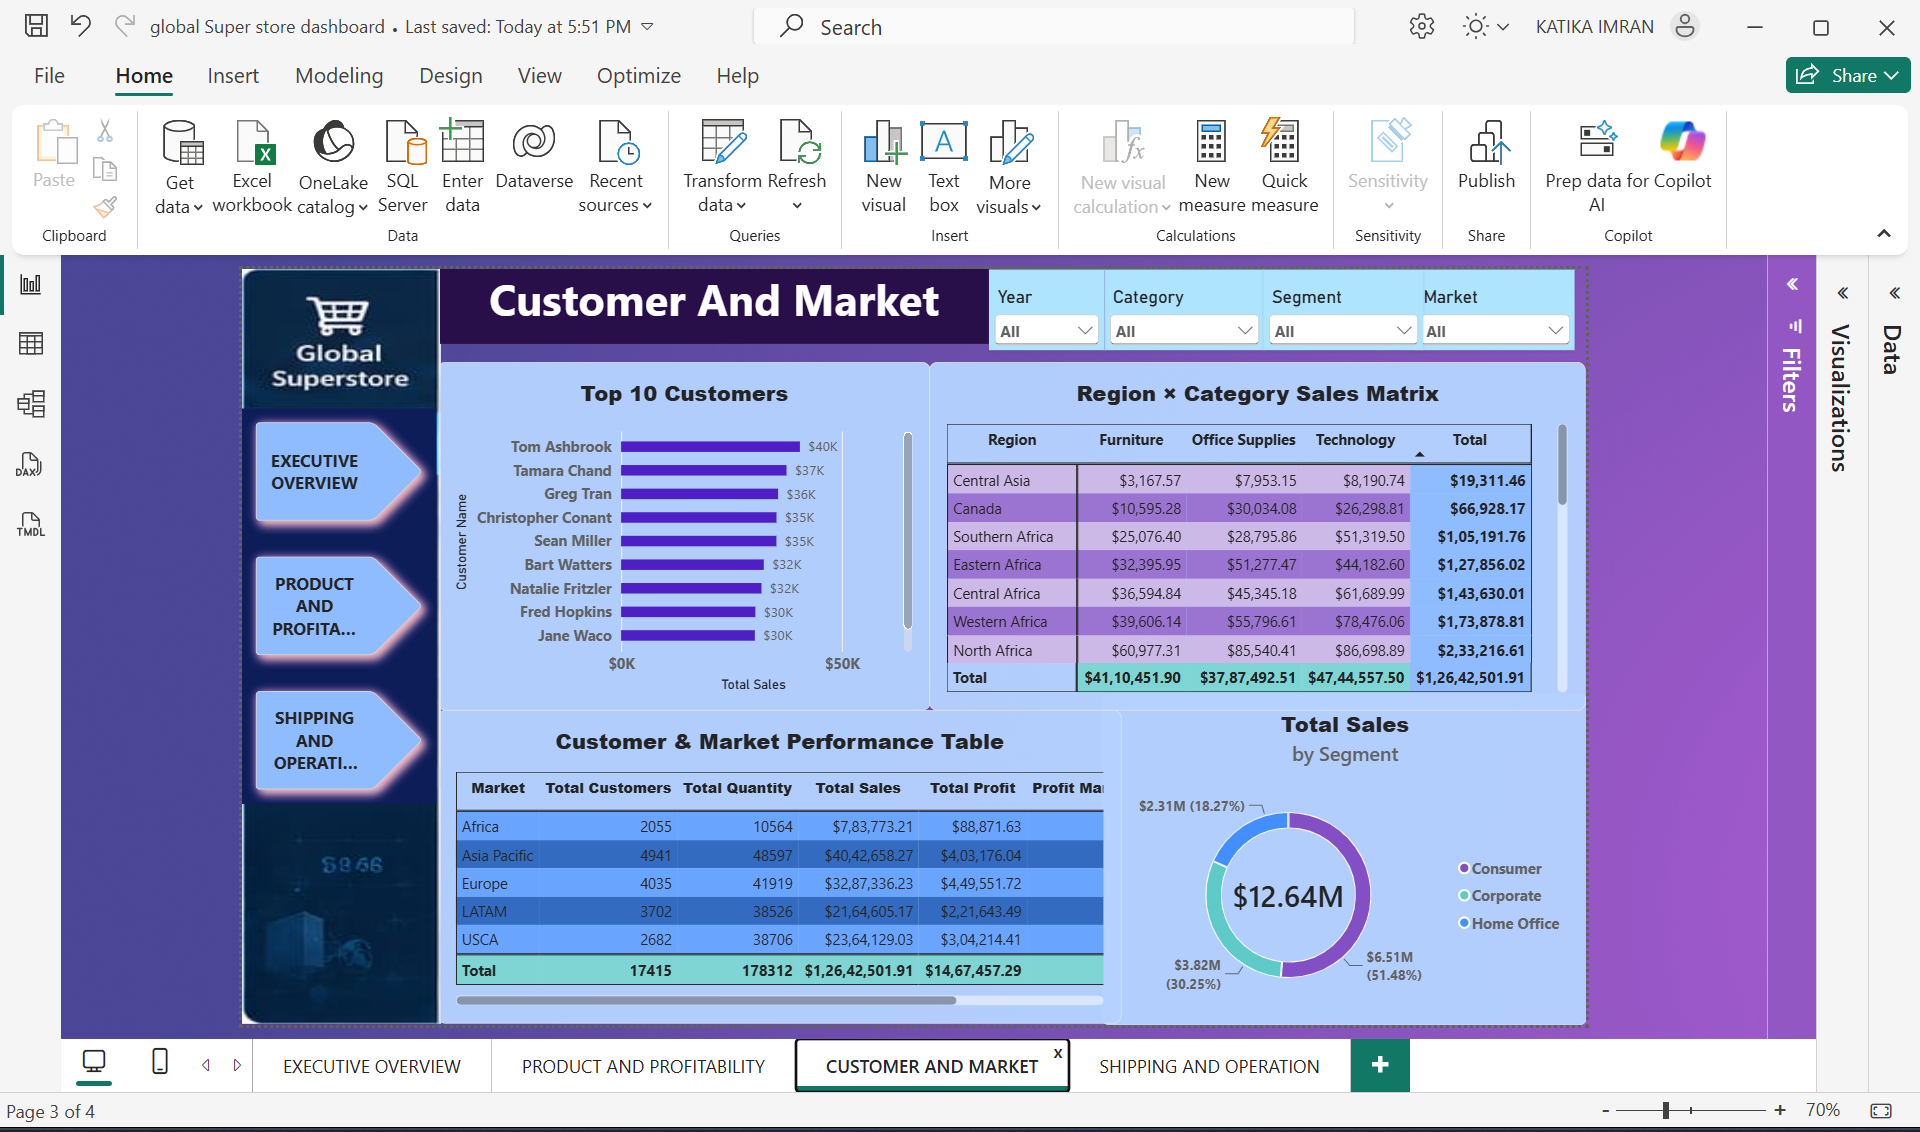

The dashboard page shown, as its layout file describes it:
{"tool":"powerbi","page":{"name":"CUSTOMER AND MARKET","canvas":[1280,720],"ordinal":2},"visuals":[{"type":"donutChart","fields":{"Category":["Orders.Segment"],"Y":["_Measures.Total Sales"]},"box":[817.9,404.2,462.6,315.8],"z":0},{"type":"clusteredBarChart","title":"Top 10 Customers","fields":{"Category":["Orders.Customer Name"],"Y":["_Measures.Total Sales"]},"box":[185,88.3,470,331.7],"z":1000},{"type":"tableEx","title":"Customer & Market Performance Table","fields":{"Values":["Orders.Market","_Measures.Total Customers","_Measures.Total Quantity","_Measures.Total Sales","_Measures.Total Profit","_Measures.Profit Margin %","_Measures.Avg Order Value"]},"box":[185,420,651.7,298.3],"z":2000},{"type":"pivotTable","title":" Region × Category Sales Matrix","fields":{"Columns":["Orders.Category"],"Rows":["Orders.Region"],"Values":["_Measures.Total Sales"]},"box":[655,88.3,625,331.7],"z":3000},{"type":"slicer","fields":{"Values":["Orders.Category"]},"box":[821.7,0,152.1,77],"z":6000},{"type":"slicer","fields":{"Values":["Orders.Market"]},"box":[1117,0,152.1,77],"z":7000},{"type":"slicer","fields":{"Values":["Orders.Segment"]},"box":[973.3,0,152.1,77],"z":8000},{"type":"slicer","fields":{"Values":["Date.Year"]},"box":[711.7,0,109.8,77],"z":9000},{"type":"shape","box":[0,0,184.7,720],"z":10000},{"type":"actionButton","box":[0,0,189.5,718.4],"z":11000},{"type":"pageNavigator","box":[0,133.3,185,376.7],"z":12000},{"type":"textbox","title":"Customer And Market","box":[189.3,0,522.4,110.5],"z":13000}]}

Visuals, with their boxes on the page's 1280x720 design canvas (x1, y1, x2, y2). These are canvas units, not pixel positions in the 1920x1132 screenshot, which may show the page scaled, cropped or inside an application window:
donutChart - Orders.Segment x _Measures.Total Sales: [818,404,1280,720]
"Top 10 Customers" clusteredBarChart: [185,88,655,420]
"Customer & Market Performance Table" tableEx: [185,420,837,718]
" Region × Category Sales Matrix" pivotTable: [655,88,1280,420]
slicer - Orders.Category: [822,0,974,77]
slicer - Orders.Market: [1117,0,1269,77]
slicer - Orders.Segment: [973,0,1125,77]
slicer - Date.Year: [712,0,822,77]
shape: [0,0,185,720]
actionButton: [0,0,190,718]
pageNavigator: [0,133,185,510]
"Customer And Market" textbox: [189,0,712,110]
